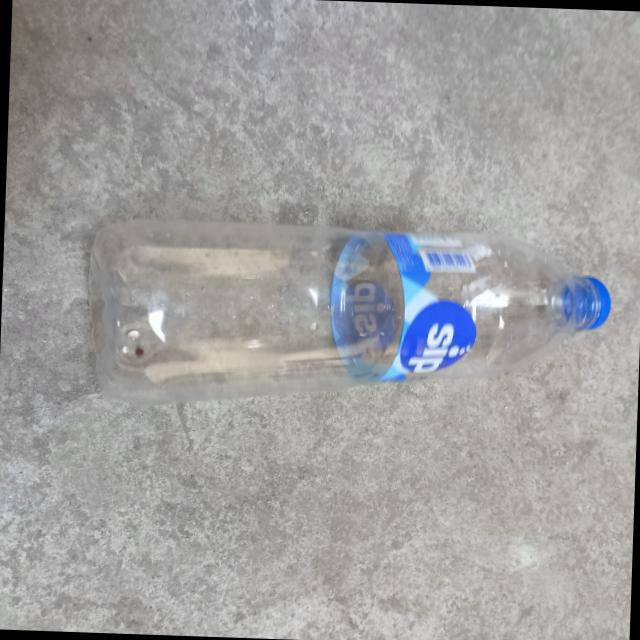Bottle: (88, 220, 609, 403)
